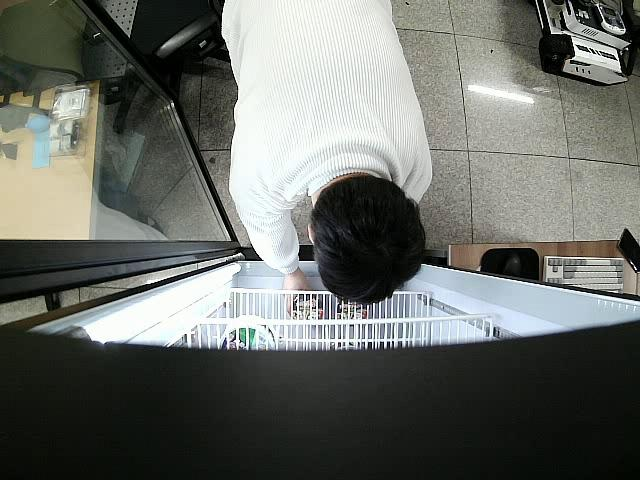00_hand: (282, 274, 313, 319)
08_buldak_S: (291, 294, 324, 323)
